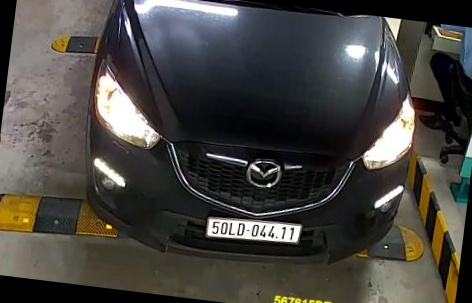plate: (196, 213, 306, 253)
